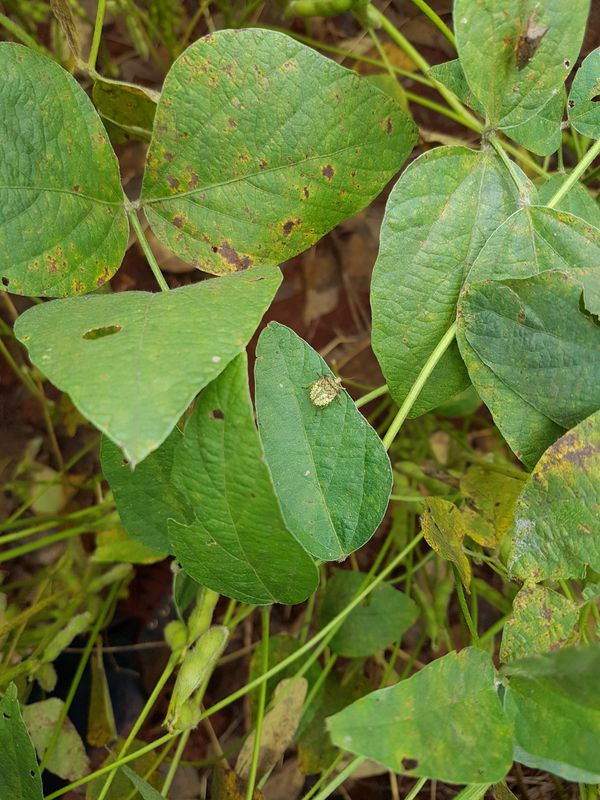Euschistus_heros_adulto: (496, 5, 556, 83)
Euschistus_heros_ninfa: (296, 367, 352, 416)
